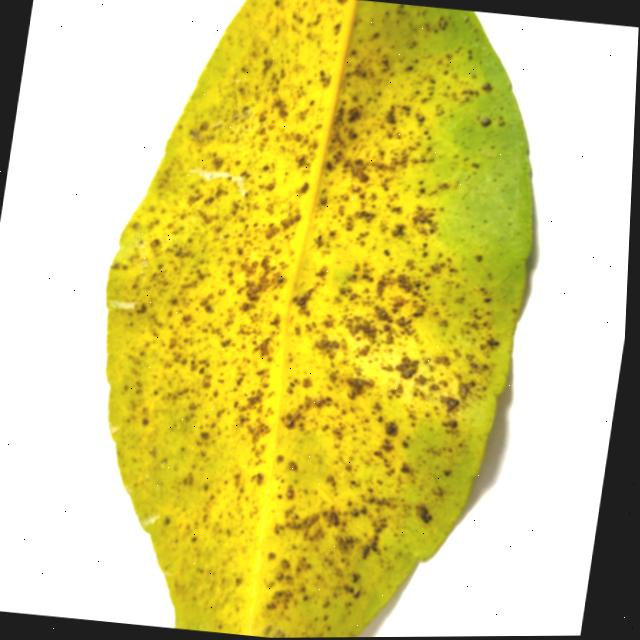melanose: (105, 0, 530, 638)
